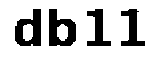1: (84, 6, 114, 50), (117, 8, 148, 50)
b: (46, 4, 80, 51)
d: (12, 5, 44, 51)
